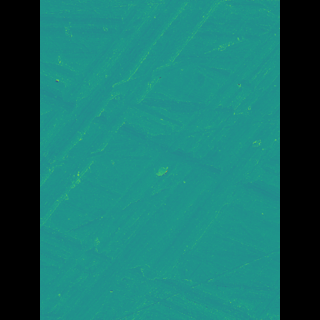Loch: (78, 16, 236, 308)
